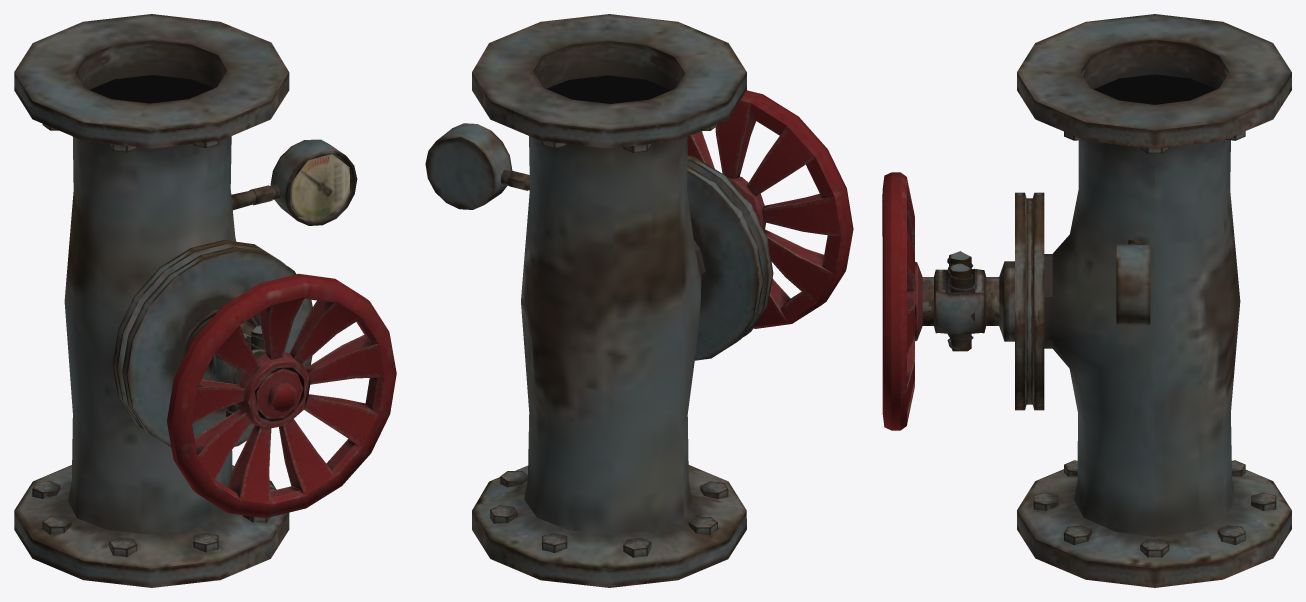
Rendered from modular_industrial_pipes_01-valve.glb.
3 views of the same model, side by side, from view 1: azimuth 30°, elevation 25°; view 2: azimuth 150°, elevation 25°; view 3: azimuth 270°, elevation 25° (orthographic).
Parts seen in each view (by area): view 1: modular_industrial_pipes_01_pipe08; view 2: modular_industrial_pipes_01_pipe08; view 3: modular_industrial_pipes_01_pipe08.
Part boxes in pixels (left/top/right/bottom): modular_industrial_pipes_01_pipe08: left=14, top=14, right=396, bottom=587; modular_industrial_pipes_01_pipe08: left=425, top=14, right=853, bottom=587; modular_industrial_pipes_01_pipe08: left=882, top=14, right=1291, bottom=587.
Size of the model in its own units: 0.2648 by 0.3788 by 0.3075.
Materials: 1 (1 with a texture image).
